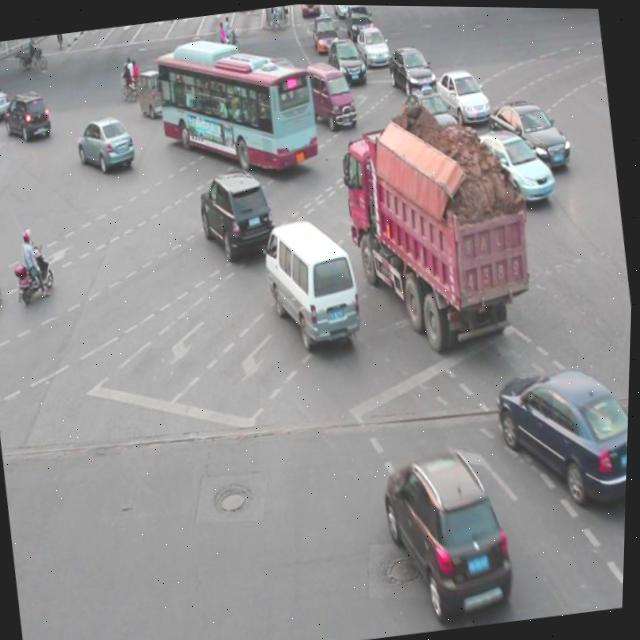bus: (335, 115, 538, 347)
car: (378, 442, 522, 624), (494, 355, 632, 509), (195, 165, 280, 265), (473, 119, 557, 208), (487, 92, 571, 174), (74, 113, 140, 176), (304, 57, 358, 132), (398, 80, 459, 144), (433, 62, 491, 127), (385, 42, 437, 96), (2, 87, 53, 142)
truck: (259, 212, 366, 351), (438, 141, 508, 220)
van: (153, 32, 323, 185)
